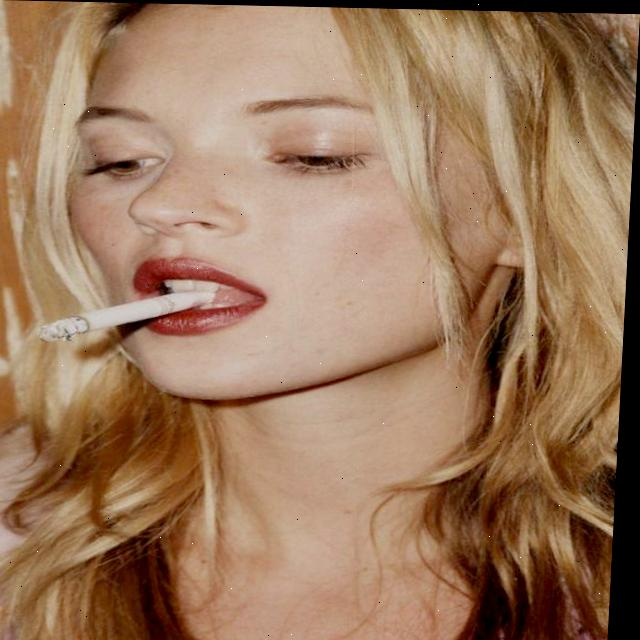cigarette: (42, 286, 217, 346)
